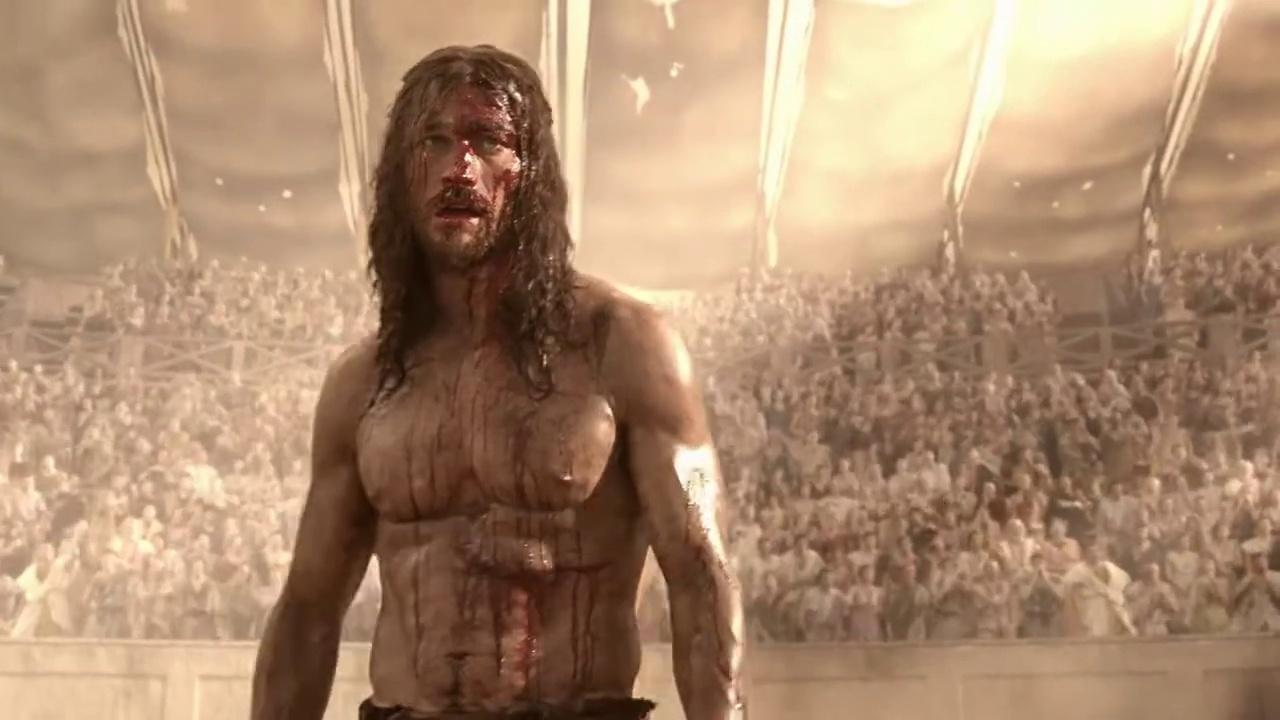Fire: (431, 504, 602, 710), (411, 83, 521, 330)
